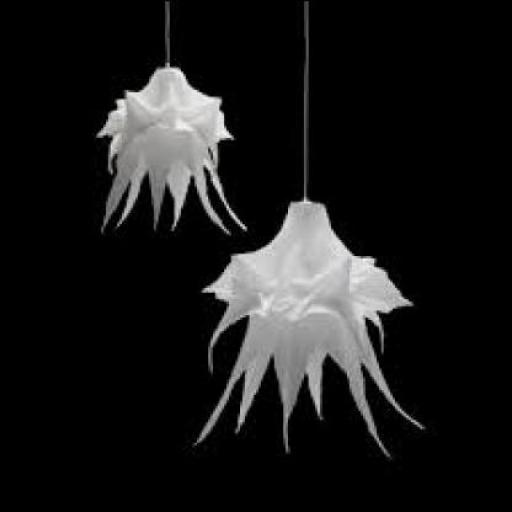paper: (184, 193, 426, 458), (91, 59, 246, 235)
